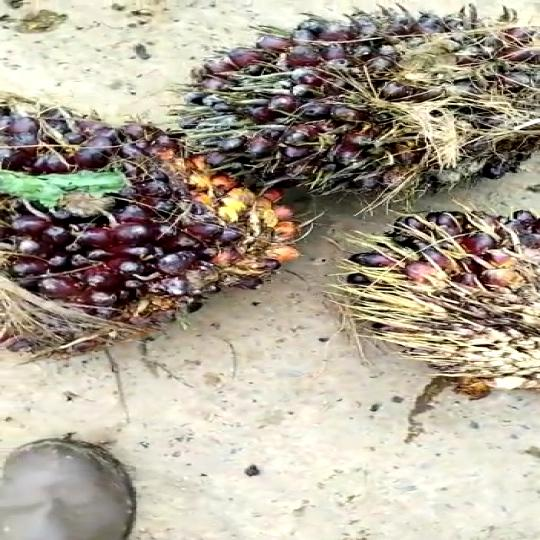kurang masak: (0, 100, 299, 358), (170, 2, 540, 198), (327, 203, 540, 417)
